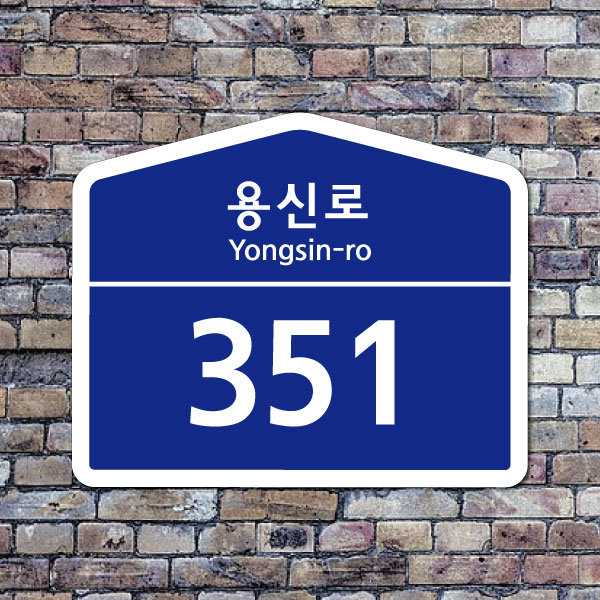building_license_plate1: (72, 112, 530, 487)
